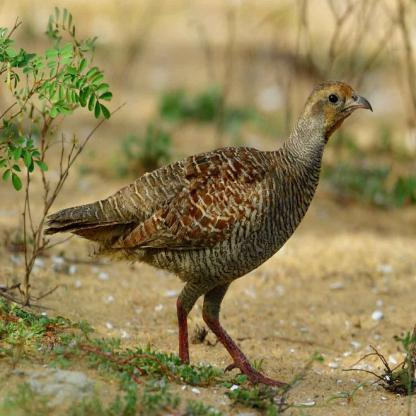Burung: (43, 81, 372, 388)
